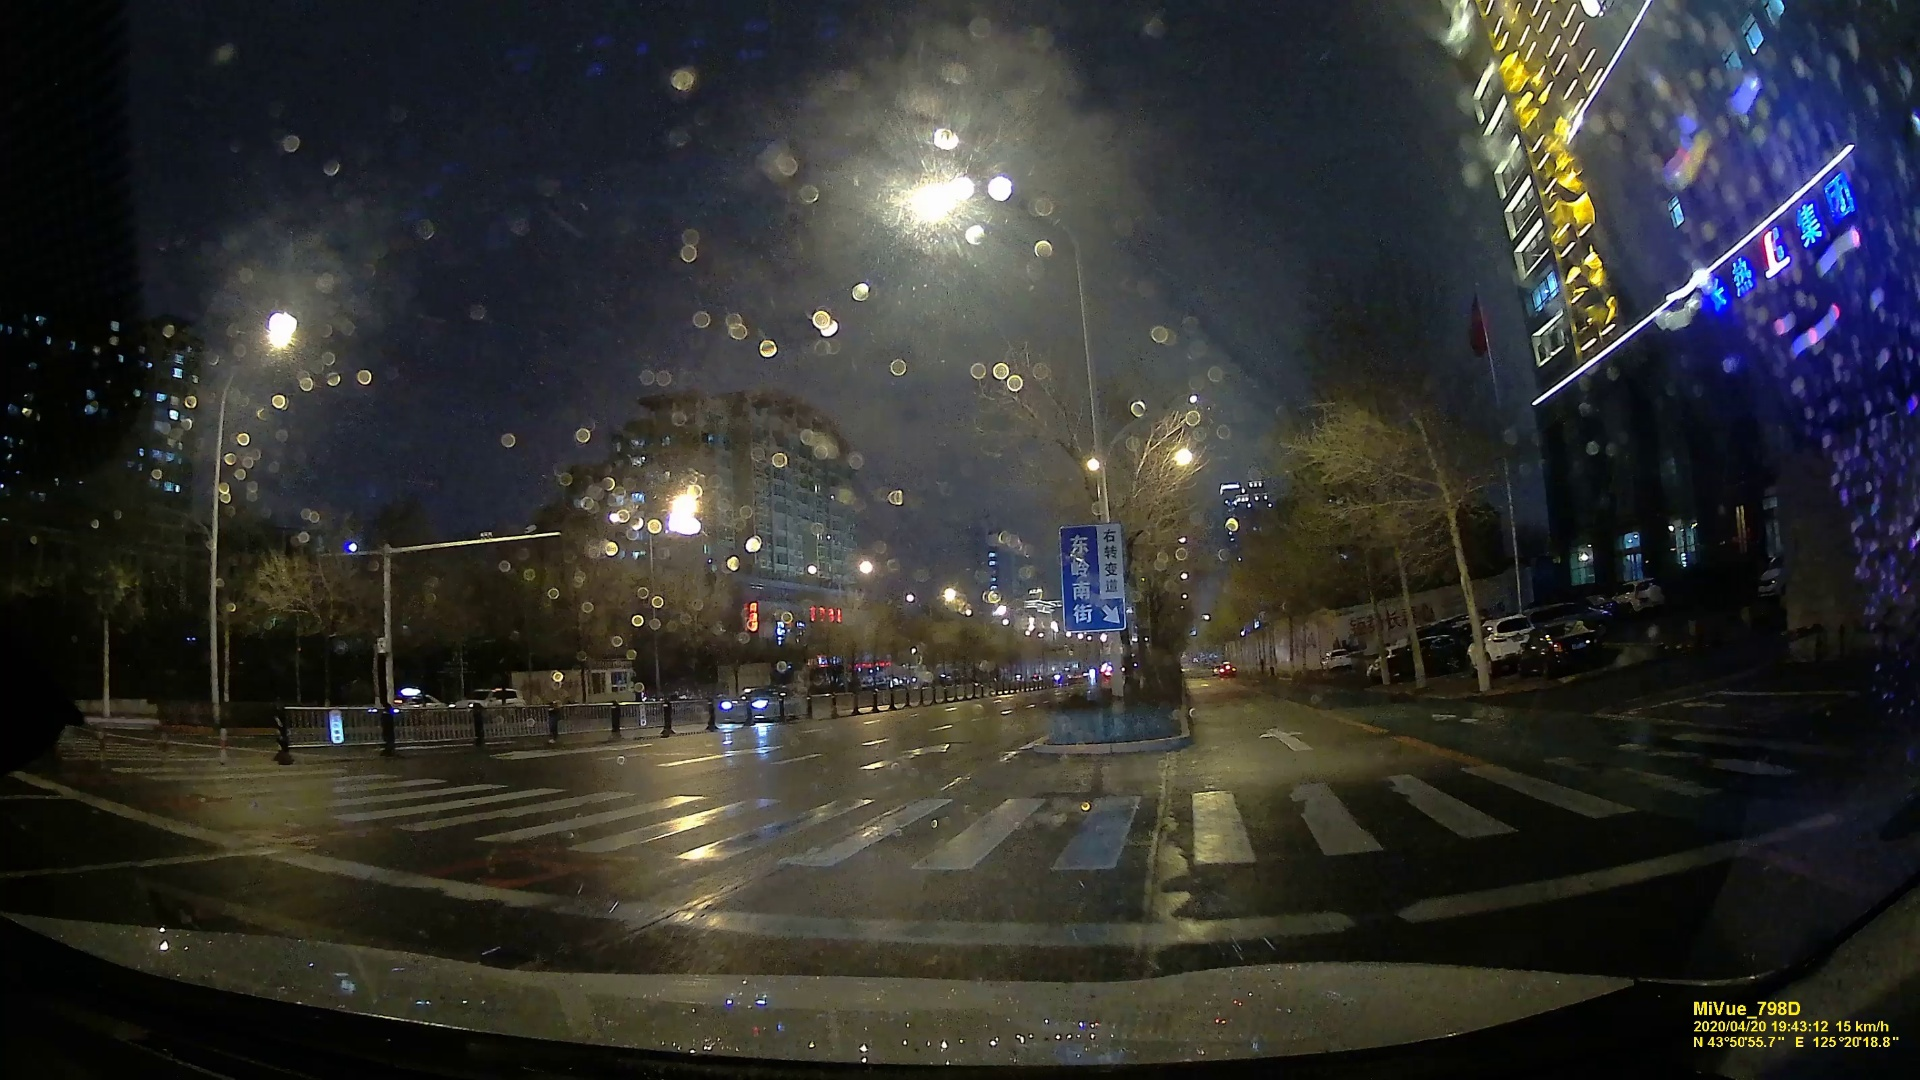traffic_sign: (1055, 527, 1131, 634)
vehicle: (720, 686, 800, 725)
